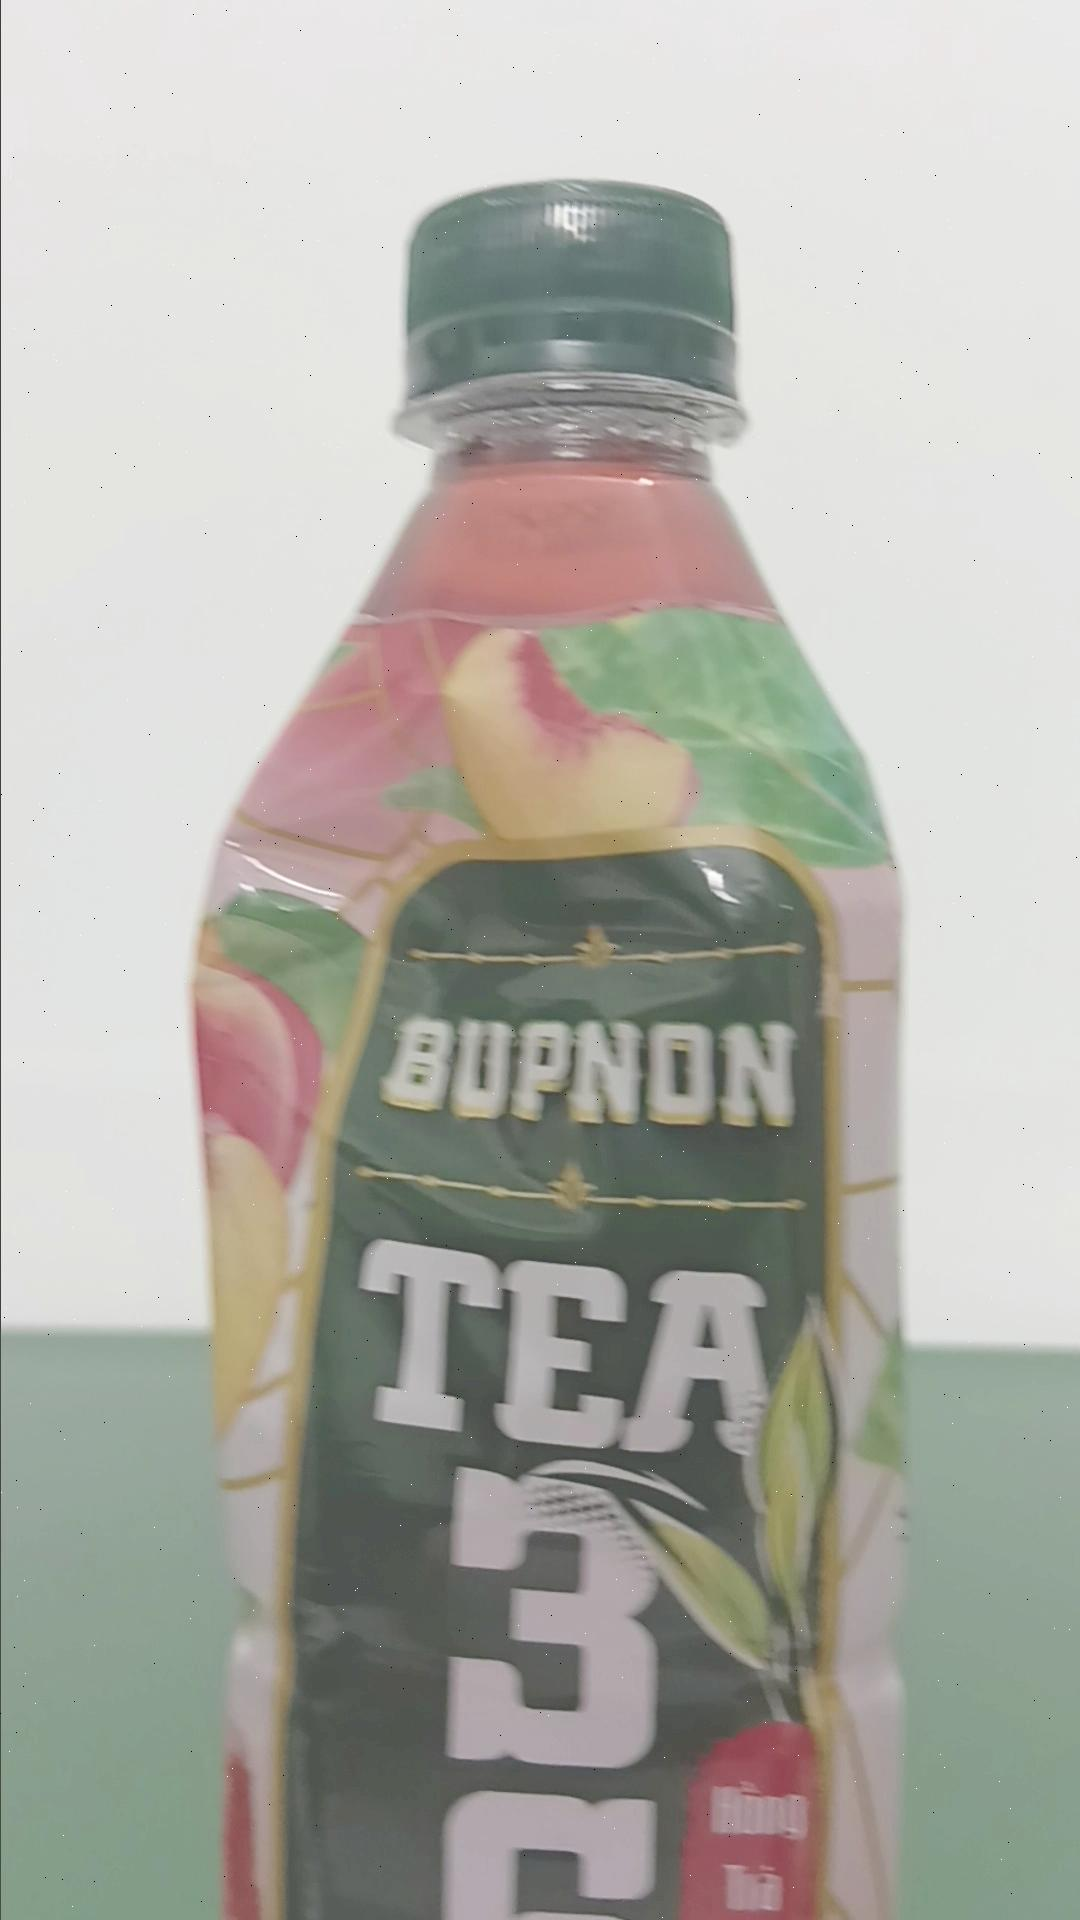loi meo sp: (187, 175, 909, 1913)
